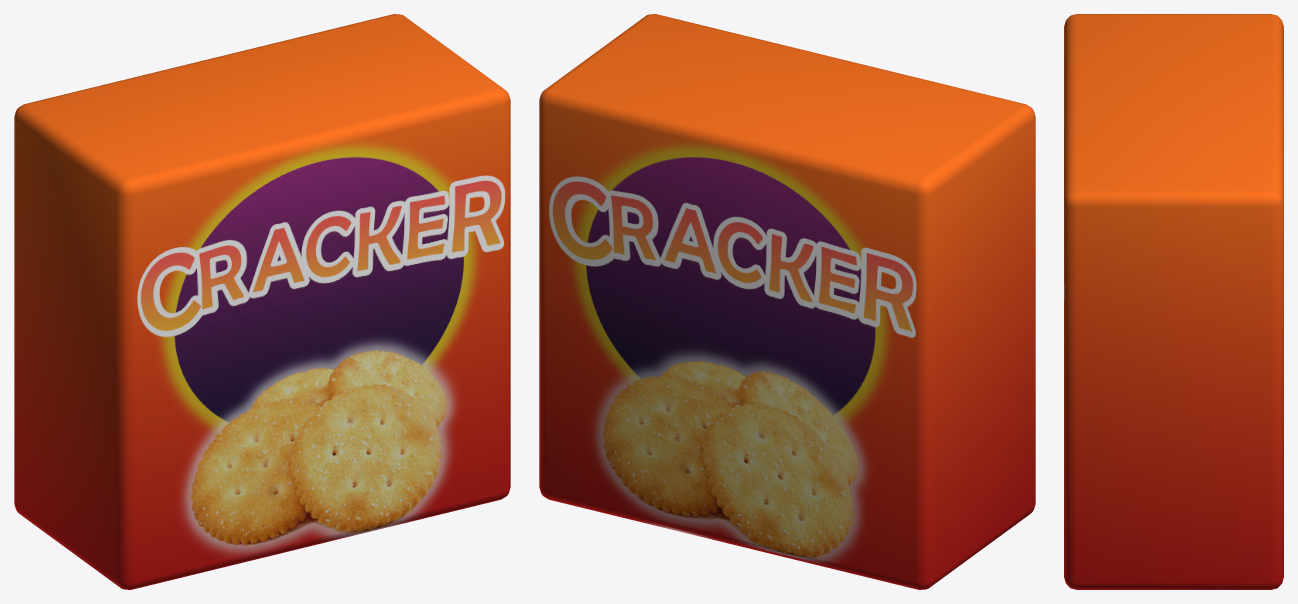
Rendered from Cracker.fbx.
3 renders of one model, left to right at view 1: azimuth 30°, elevation 25°; view 2: azimuth 150°, elevation 25°; view 3: azimuth 270°, elevation 25°, orthographic. The views are drawn at different scales.
Visible parts, largest first — view 1: Cracker; view 2: Cracker; view 3: Cracker.
Boxes of the visible parts, bbox=[...] form: Cracker: bbox=[14, 14, 510, 589]; Cracker: bbox=[539, 14, 1035, 589]; Cracker: bbox=[1064, 14, 1283, 589].
Bounding box in the file's own units: 17.84 × 17.84 × 8.92.
